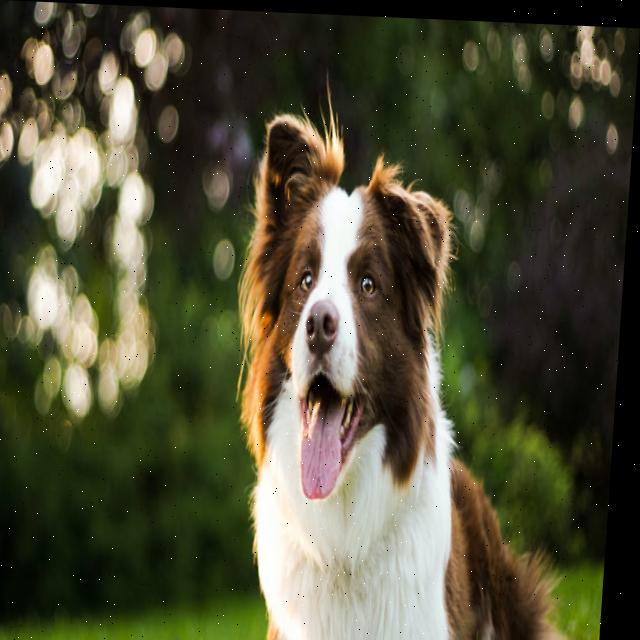BORDER_COLLIE: (225, 89, 609, 640)
